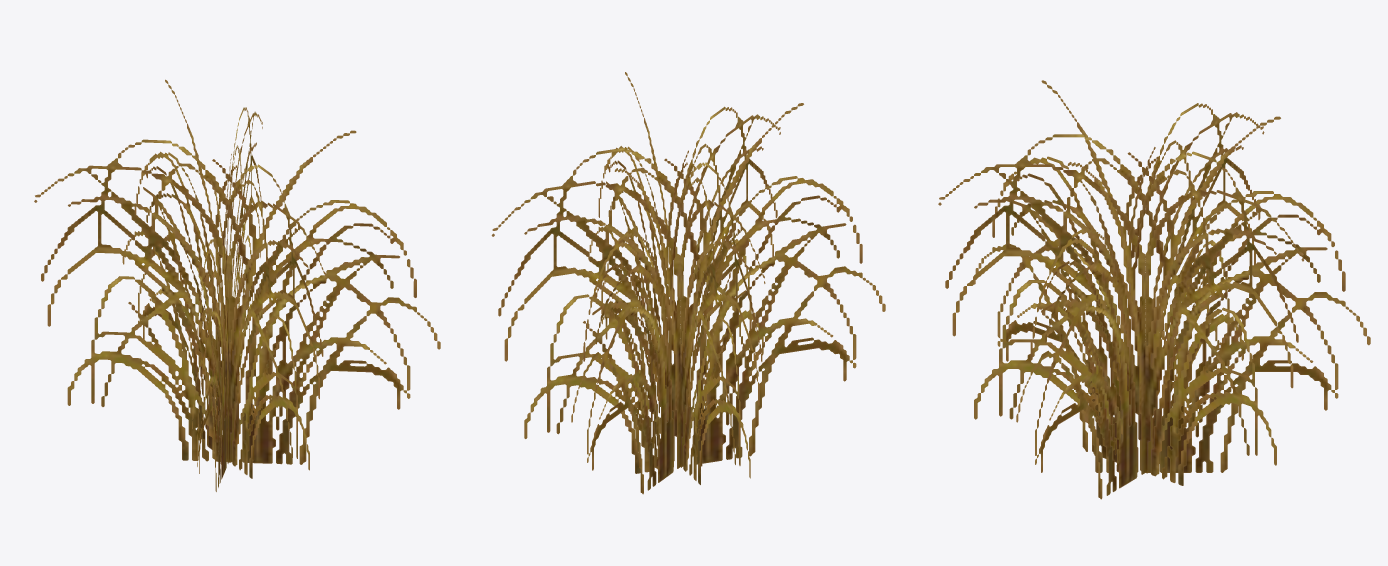
File: grass_single03.glb
The picture shows the model from 3 angles, left to right: view 1: azimuth 30°, elevation 25°; view 2: azimuth 150°, elevation 25°; view 3: azimuth 270°, elevation 25°; orthographic projection. The views are drawn at different scales.
Parts seen in each view (by area): view 1: grass_single03; view 2: grass_single03; view 3: grass_single03.
Part boxes in pixels (x1,y1,x2,y2): grass_single03: (34, 79, 440, 491); grass_single03: (491, 72, 885, 494); grass_single03: (938, 80, 1370, 499).
Size of the model in its own units: 1.05 by 1.17 by 1.28.
Materials: 1 (1 with a texture image).
